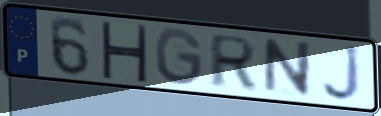6: (47, 15, 92, 78)
G: (152, 26, 205, 89)
H: (98, 19, 149, 85)
J: (321, 44, 364, 105)
N: (262, 37, 314, 99)
R: (207, 32, 259, 91)
